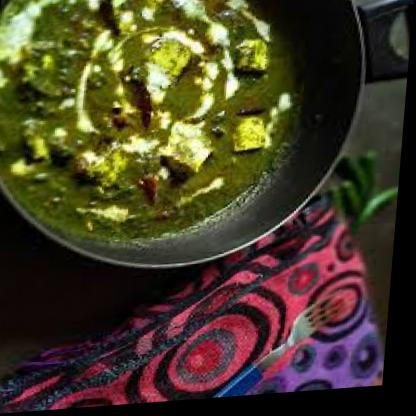palak_paneer: (0, 0, 306, 250)
